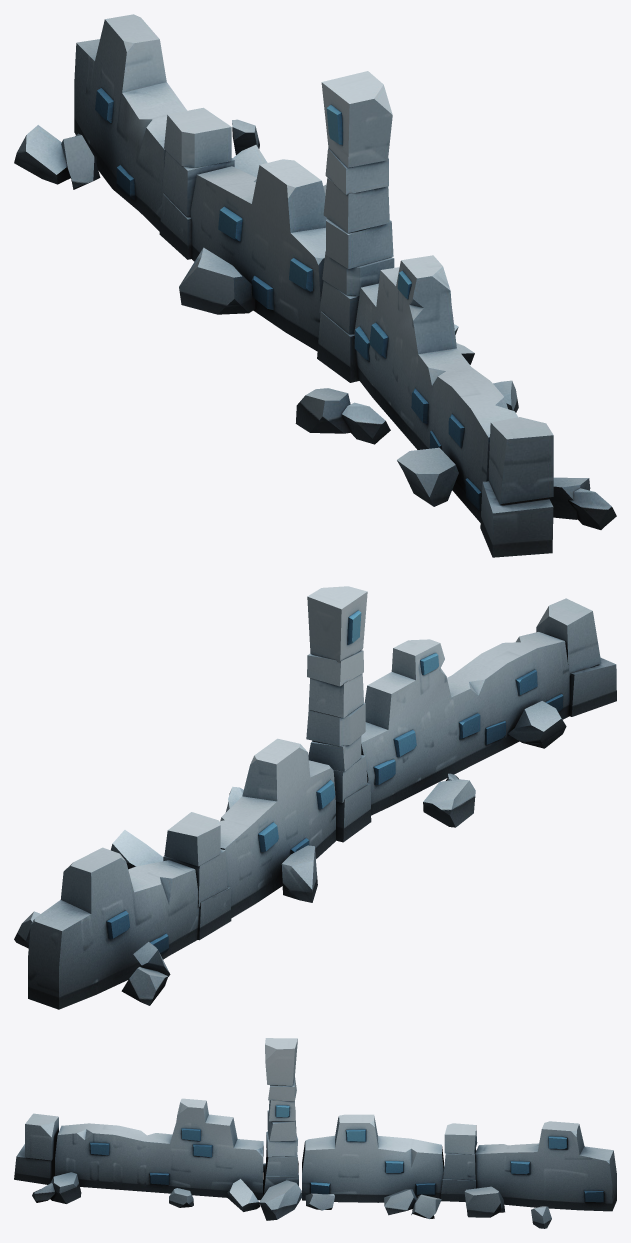
Rendered from PS_Cartoon_Wall01.FBX.
3 renders of one model, top to bottom at view 1: azimuth 30°, elevation 25°; view 2: azimuth 150°, elevation 25°; view 3: azimuth 270°, elevation 25°, orthographic. The views are drawn at different scales.
Visible parts, largest first — view 1: Wall001; view 2: Wall001; view 3: Wall001.
Part boxes in pixels (bbox=[...]): Wall001: bbox=[14, 14, 616, 557]; Wall001: bbox=[14, 586, 616, 1009]; Wall001: bbox=[14, 1038, 616, 1228].
Bounding box in the file's own units: 119 × 132 × 458.
